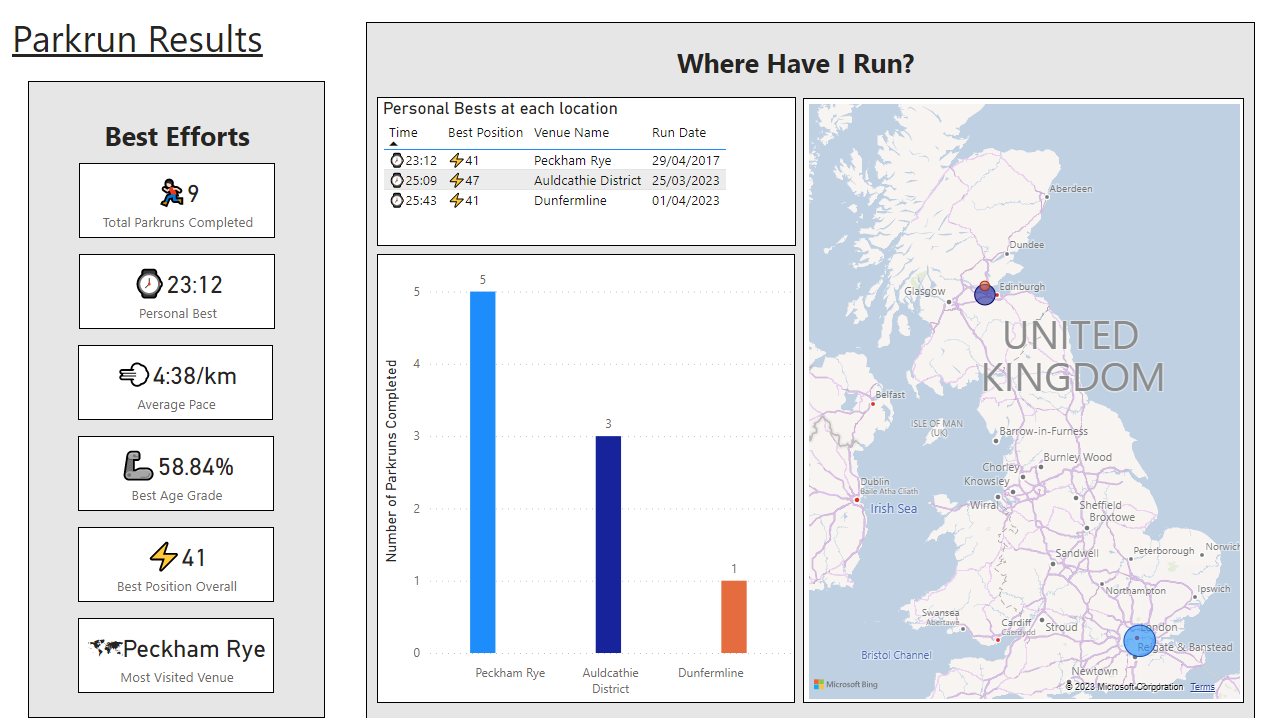

Layout of this report page (visuals, bound fields, positions):
{"tool":"powerbi","page":{"name":"Personal Stats","canvas":[1280,720],"ordinal":0},"visuals":[{"type":"shape","box":[37.8,82.7,297,636.9],"z":0},{"type":"shape","box":[375.6,24.5,889.1,696.1],"z":1000},{"type":"card","fields":{"Values":["Parkrun Measures.Best Position Overall"]},"box":[87.6,529.3,196.6,75],"z":2000},{"type":"card","fields":{"Values":["Parkrun Measures.Total Parkruns Completed"]},"box":[88.5,164.9,196.6,75],"z":3000},{"type":"card","fields":{"Values":["Parkrun Measures.Best Age Grade"]},"box":[87.6,438.2,196.6,75],"z":4000},{"type":"card","fields":{"Values":["Parkrun Measures.Fastest Time"]},"box":[88.5,256,196.6,75],"z":5000},{"type":"clusteredColumnChart","title":"Where Have I Run?","fields":{"Category":["Venue.Venue Name"],"Y":["Parkrun Measures.Total Parkruns Completed No Emoji"],"Series":["Venue.Venue Name"]},"box":[386.6,256.2,418.3,449],"z":6000},{"type":"map","title":"Where have I run?","fields":{"Size":["Parkrun Measures.Total Parkruns Completed No Emoji"],"Category":["Venue.Postcode"],"Series":["Venue.Postcode"]},"box":[812.5,100,442,605.3],"z":7000},{"type":"textbox","box":[17.4,9.2,317.4,65.3],"z":8000},{"type":"textbox","box":[666.5,40.8,277.6,50],"z":9000},{"type":"tableEx","title":"Personal Bests at each location","fields":{"Values":["Parkrun Measures.Personal Best","Parkrun Measures.Best Position","Venue.Venue Name","Parkrun Measures.Date of Personal Best"]},"box":[386.6,98.7,419.2,149.1],"z":10000},{"type":"card","fields":{"Values":["Parkrun Measures.Most Visited Venue"]},"box":[87.6,620.4,196.6,75],"z":11000},{"type":"textbox","box":[48,114.3,277.6,50],"z":12000},{"type":"card","fields":{"Values":["Parkrun Measures.Best Pace"]},"box":[87.6,347.1,195.6,75],"z":13000}]}

Visuals, with their boxes in screenshot pixels (x1, y1, x2, y2), scaled from the page's 1280x720 canvas onto the 1270x718 screenshot:
shape: [38, 82, 332, 717]
shape: [373, 24, 1255, 717]
card - Parkrun Measures.Best Position Overall: [87, 528, 282, 603]
card - Parkrun Measures.Total Parkruns Completed: [88, 164, 283, 239]
card - Parkrun Measures.Best Age Grade: [87, 437, 282, 512]
card - Parkrun Measures.Fastest Time: [88, 255, 283, 330]
"Where Have I Run?" clusteredColumnChart: [384, 255, 799, 703]
"Where have I run?" map: [806, 100, 1245, 703]
textbox: [17, 9, 332, 74]
textbox: [661, 41, 937, 91]
"Personal Bests at each location" tableEx: [384, 98, 800, 247]
card - Parkrun Measures.Most Visited Venue: [87, 619, 282, 693]
textbox: [48, 114, 323, 164]
card - Parkrun Measures.Best Pace: [87, 346, 281, 421]
